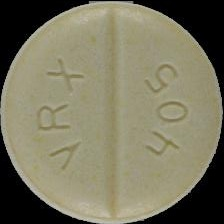0187-1704: (0, 0, 224, 224)
